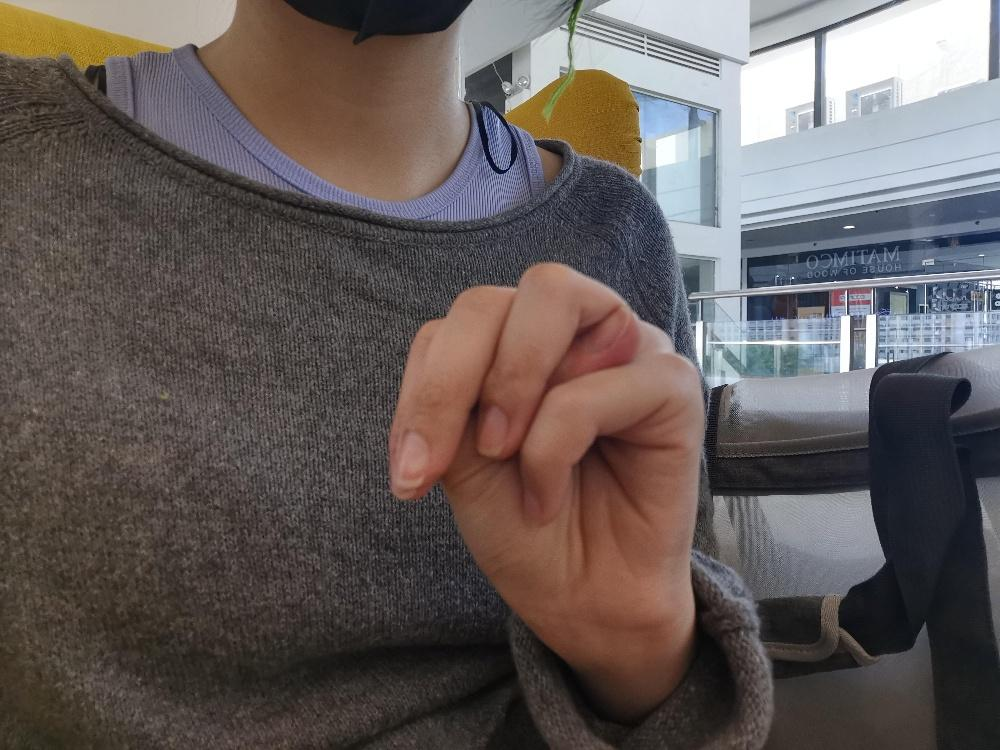m: (386, 258, 706, 640)
